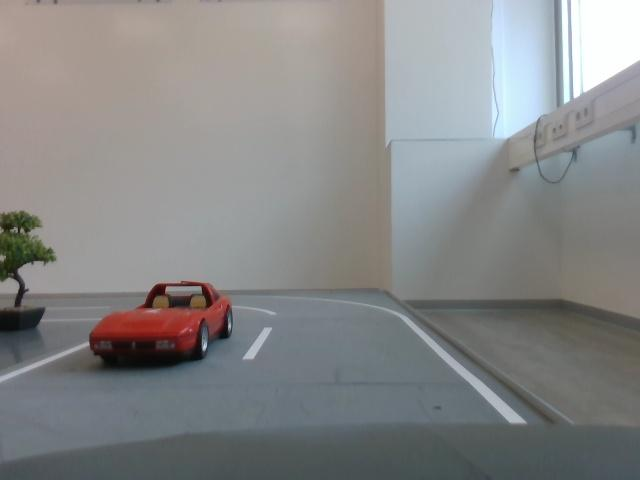car: (86, 280, 241, 374)
potted plant: (1, 202, 69, 330)
